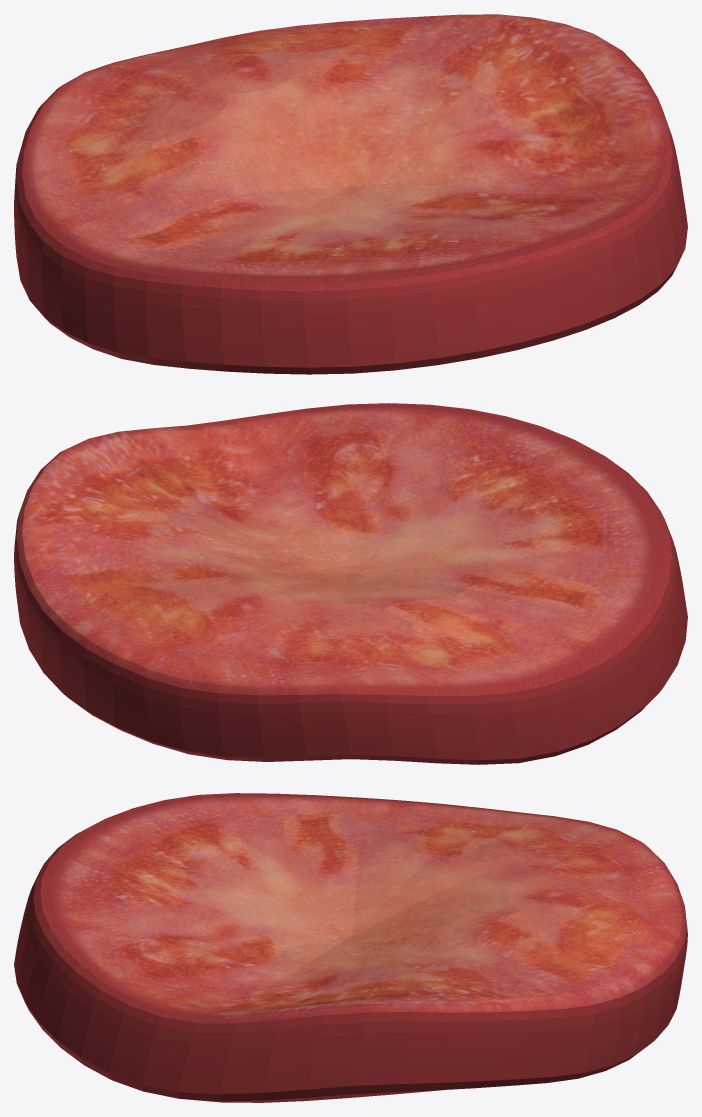
Rendered from CutTomato.fbx.
3 renders of one model, top to bottom at view 1: azimuth 30°, elevation 25°; view 2: azimuth 150°, elevation 25°; view 3: azimuth 270°, elevation 25°, orthographic.
Parts seen in each view (by area): view 1: bottom_005; view 2: bottom_005; view 3: bottom_005.
Boxes of the visible parts, x1=… form: bottom_005: x1=14, y1=14, x2=687, y2=374; bottom_005: x1=14, y1=403, x2=687, y2=764; bottom_005: x1=14, y1=793, x2=687, y2=1102.
Bounding box in the file's own units: 0.0513 × 0.0124 × 0.0524.
